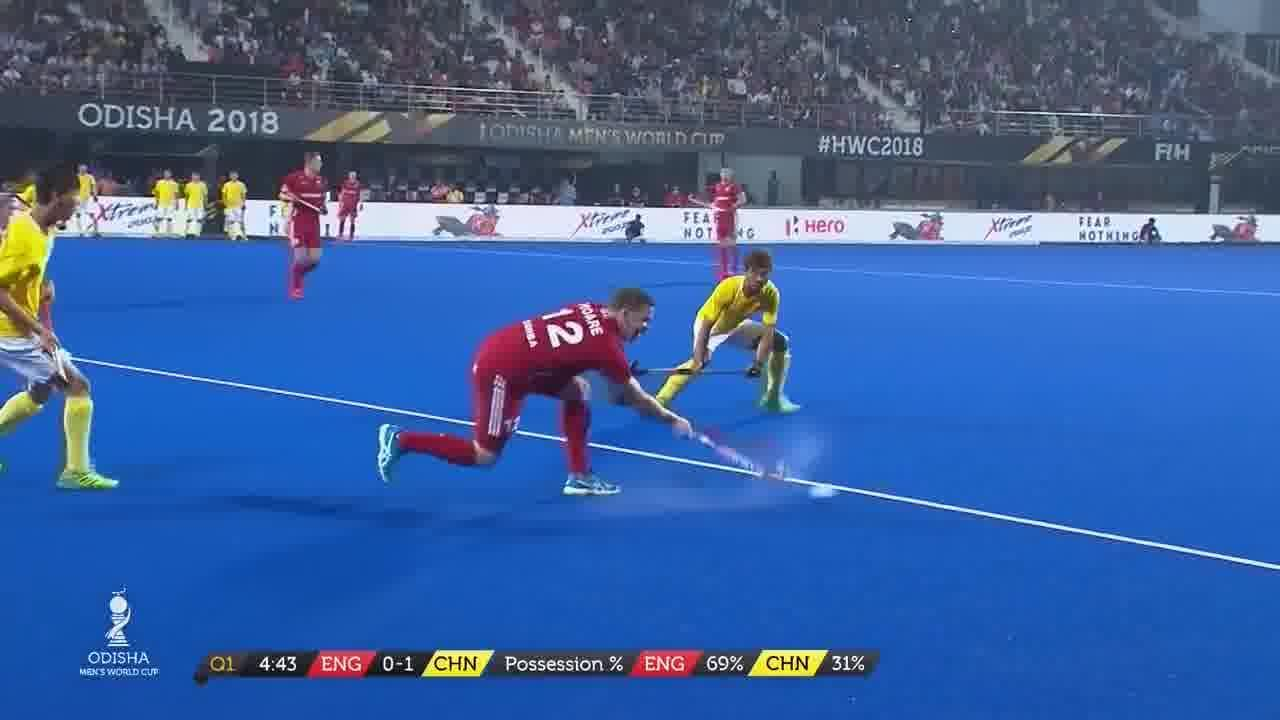ball: (804, 476, 850, 504)
